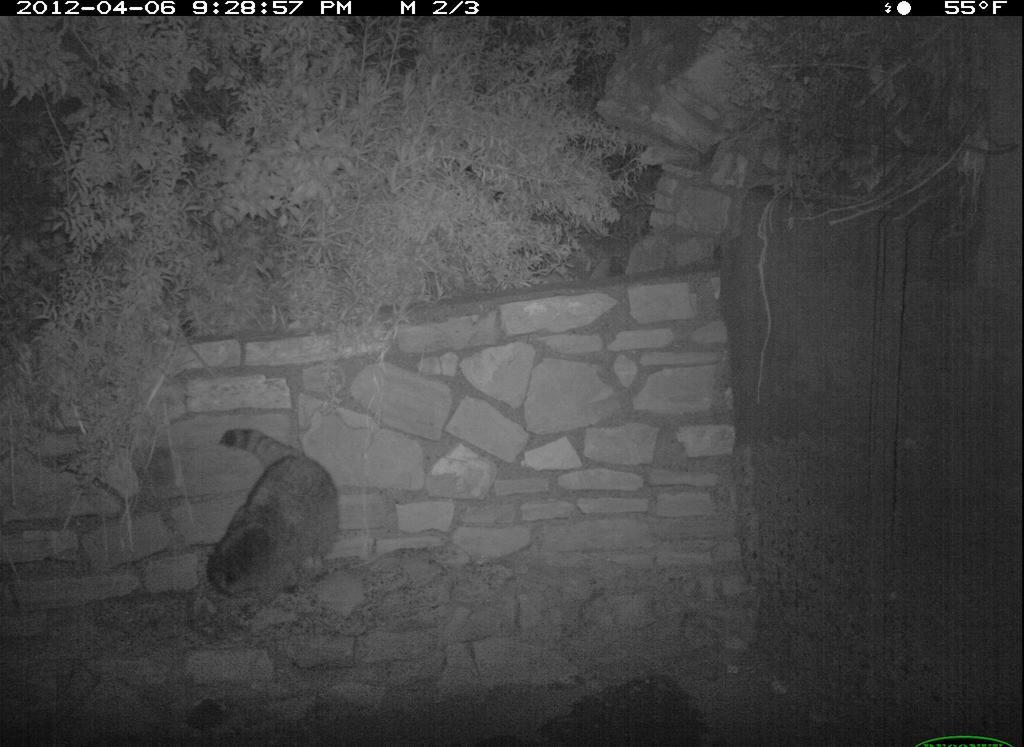raccoon: (194, 420, 355, 629)
